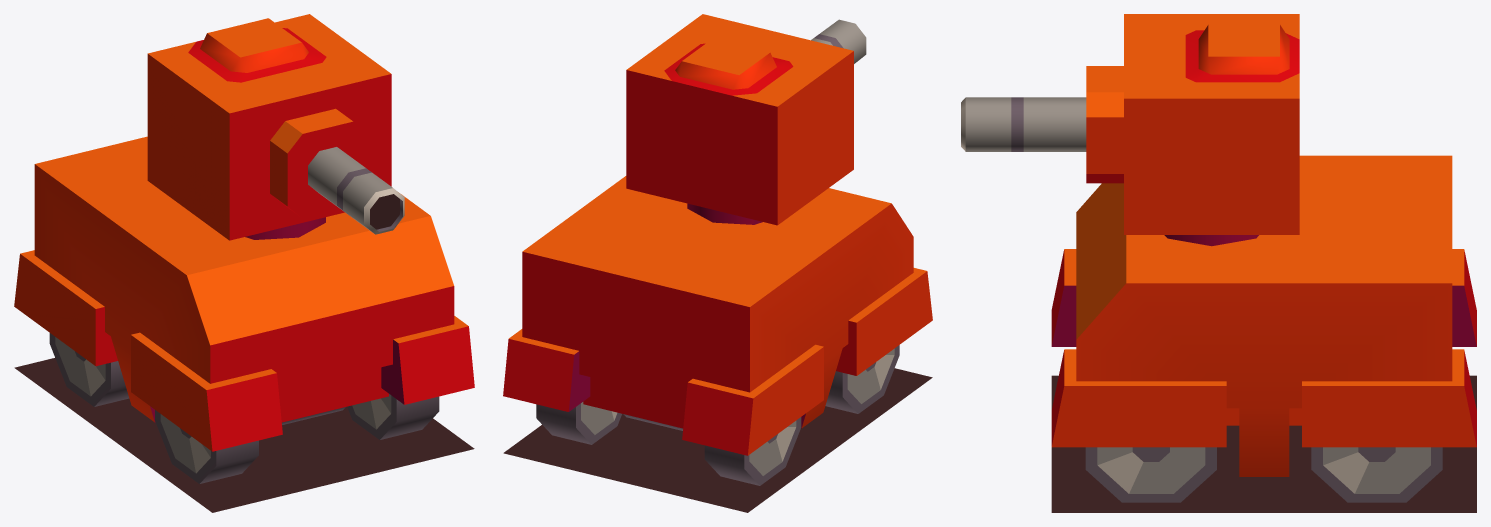
Rendered from ReconMesh.OrangeStar.glb.
3 views of the same model, side by side, from view 1: azimuth 30°, elevation 25°; view 2: azimuth 150°, elevation 25°; view 3: azimuth 270°, elevation 25° (orthographic). The views are drawn at different scales.
Visible parts, largest first — view 1: ReconMesh.OrangeStar; view 2: ReconMesh.OrangeStar; view 3: ReconMesh.OrangeStar.
Boxes of the visible parts, x1,y1,x2,y2 form: ReconMesh.OrangeStar: (14, 14, 474, 512); ReconMesh.OrangeStar: (503, 14, 932, 512); ReconMesh.OrangeStar: (961, 14, 1476, 512).
Size of the model in its own units: 1.3 by 1.79 by 2.06.
Materials: 1 (1 with a texture image).
